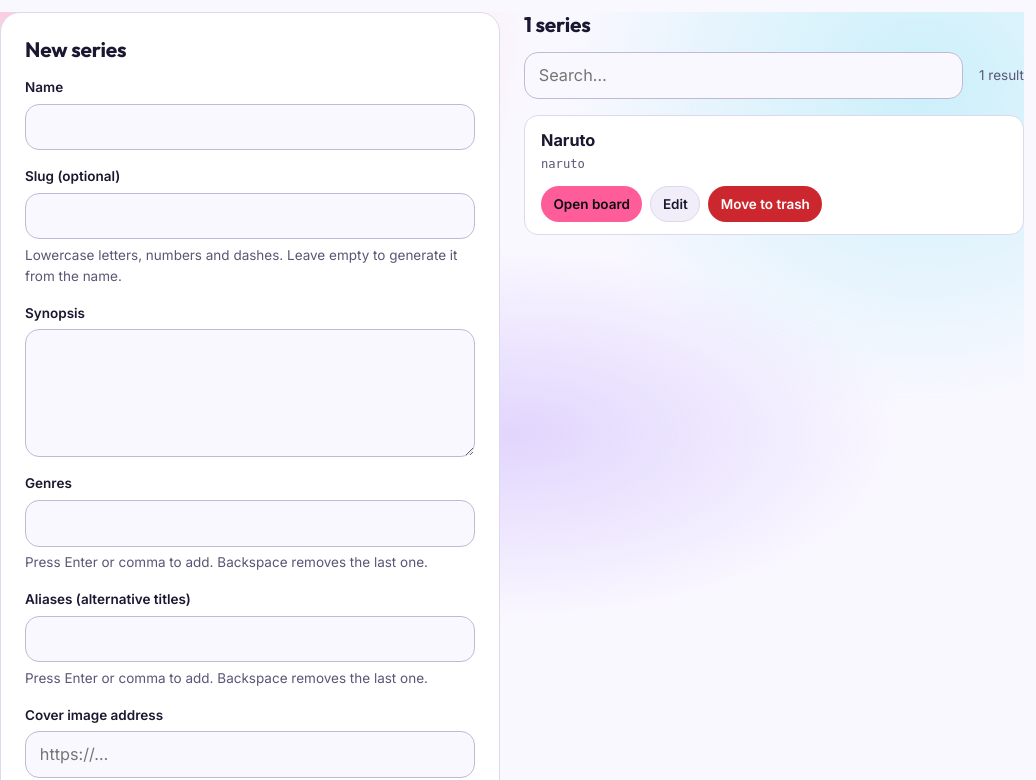
Test case: admin lists — search › shows an empty state for a search with no match (series tab)
Expected: the heading "1 series" is shown, [524,11,590,37]
Type "zzz" into the search field named "Search series".
click(744, 75); type("zzz")  # box [524,52,963,99]
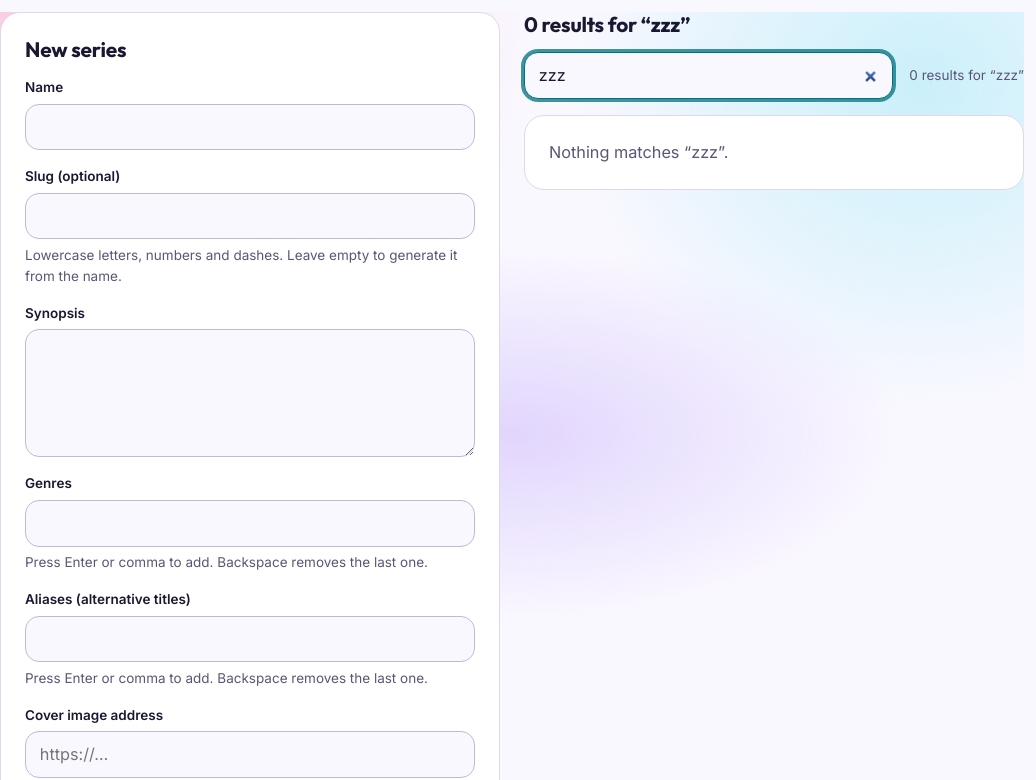
Expected: the text "Nothing matches “zzz”." is shown, [524,115,1024,190]
Expected: the heading "0 results for “zzz”" is shown, [524,11,690,37]
